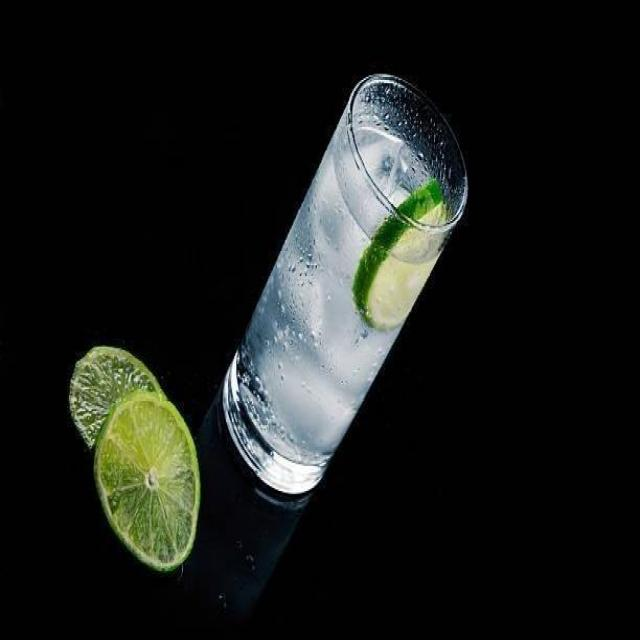glass-normal: (211, 70, 470, 498)
